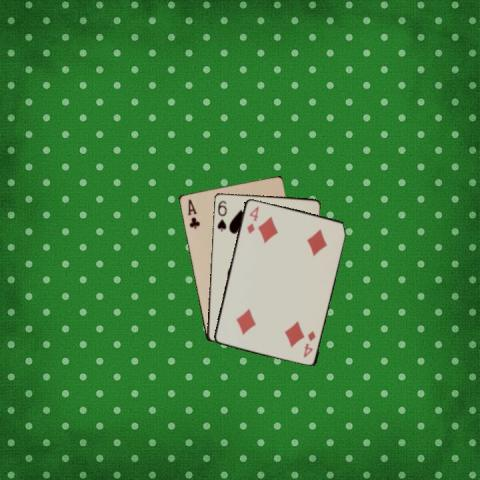4d: (300, 328, 317, 359), (244, 202, 260, 234)
6s: (214, 197, 228, 232)
Ac: (184, 196, 200, 230)
